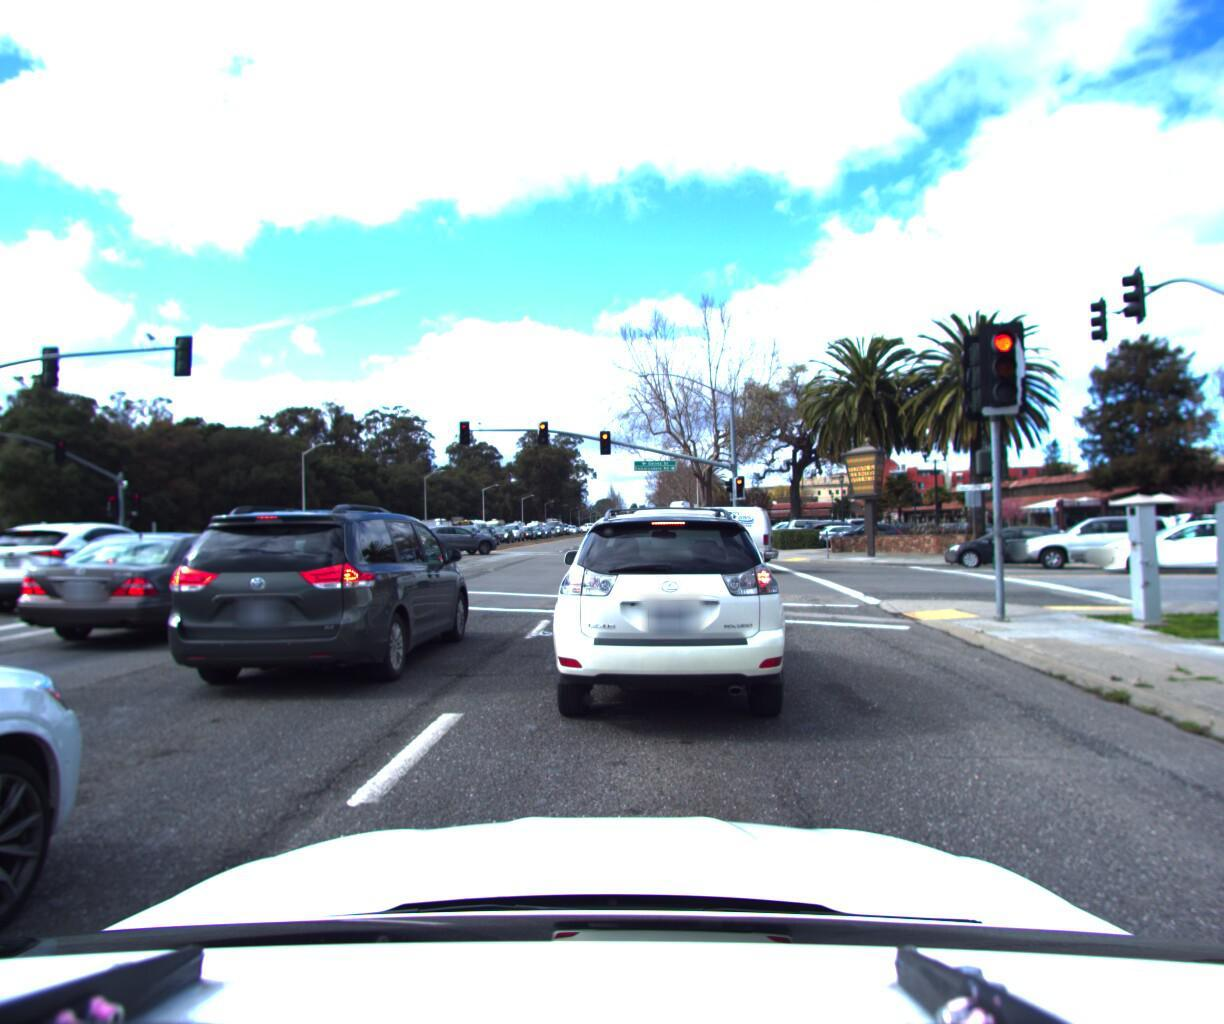car: (535, 491, 802, 746), (155, 499, 484, 702), (8, 530, 307, 660), (0, 523, 205, 626), (585, 496, 782, 575), (1013, 503, 1188, 573), (1093, 509, 1224, 574), (940, 522, 1073, 569), (406, 525, 500, 562), (833, 520, 921, 551), (1160, 505, 1224, 548), (816, 522, 898, 549), (801, 519, 880, 546), (503, 522, 532, 542), (595, 524, 620, 546)
other_vehicle: (330, 513, 399, 551)
